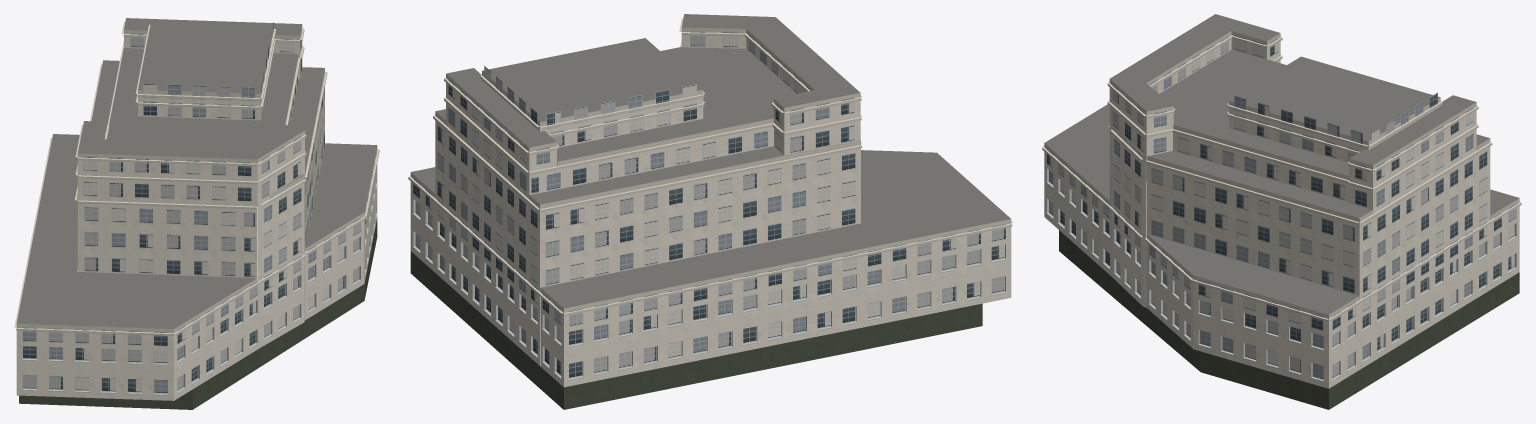
File: z2b_heinrich_cream.glb
3 views of the same model, side by side, from view 1: azimuth 30°, elevation 25°; view 2: azimuth 150°, elevation 25°; view 3: azimuth 270°, elevation 25° (orthographic). The views are drawn at different scales.
Parts seen in each view (by area): view 1: z2b_heinrich_cream; view 2: z2b_heinrich_cream; view 3: z2b_heinrich_cream.
Part boxes in pixels (<box>): z2b_heinrich_cream: <box>14,18,379,409</box>; z2b_heinrich_cream: <box>408,14,1012,409</box>; z2b_heinrich_cream: <box>1042,14,1521,409</box>.
Bounding box in the file's own units: 70.02 × 33.05 × 61.64.
Materials: 3 (3 with a texture image).
